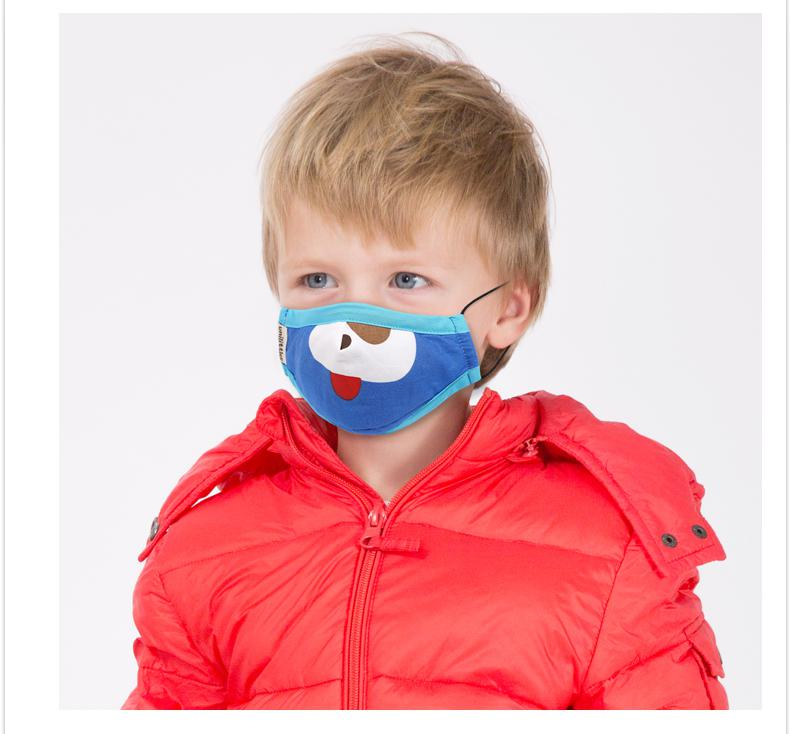OK: (285, 244, 465, 424)
